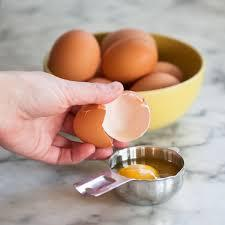egg: (50, 24, 102, 83), (103, 38, 158, 79), (136, 69, 178, 92)
